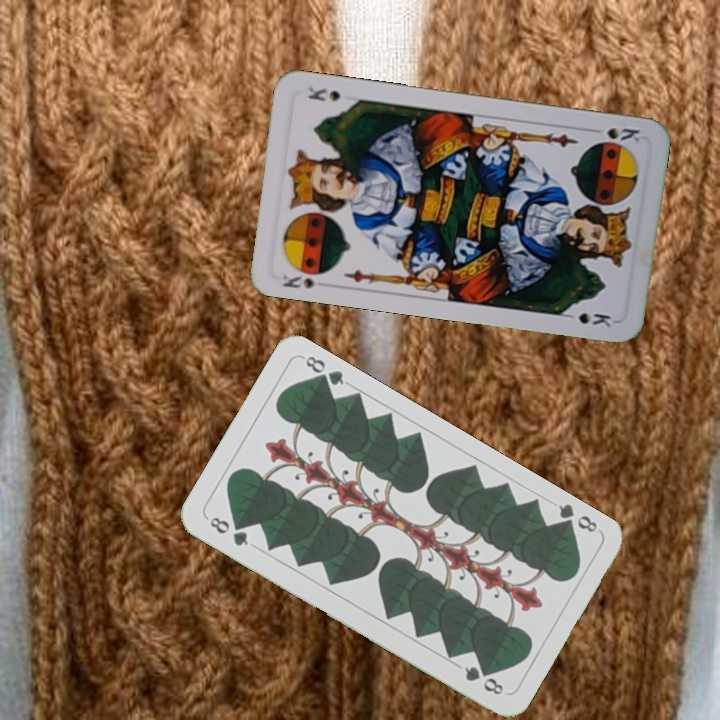G8: (205, 512, 251, 549), (553, 500, 600, 535)
SK: (586, 123, 645, 146), (278, 271, 317, 291)
